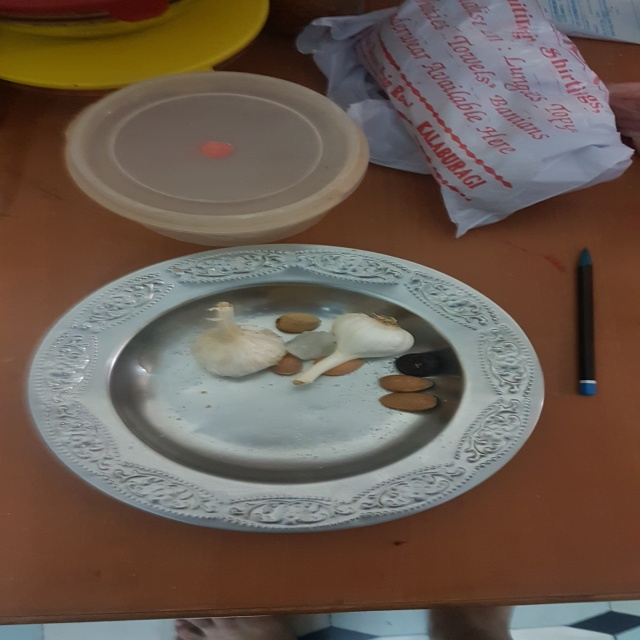garlic: (296, 310, 419, 393), (189, 298, 288, 383)
